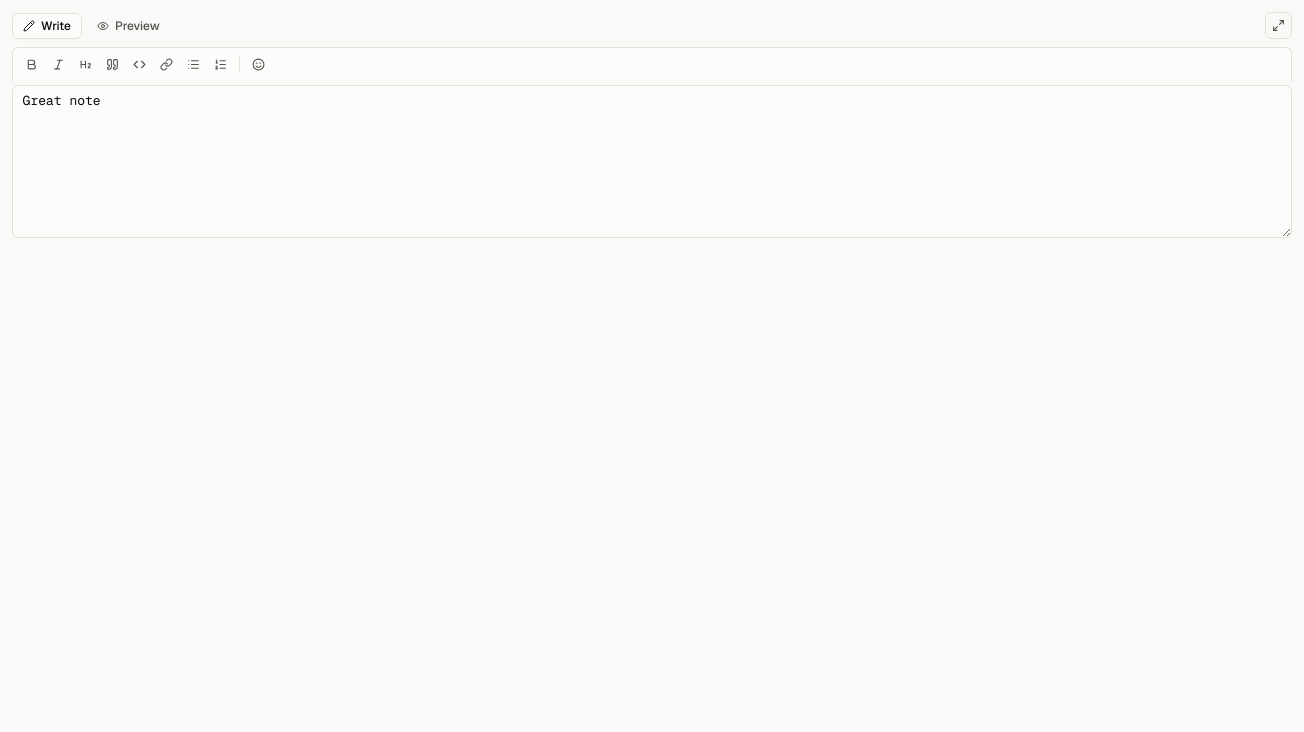
Test case: MarkdownEditor › closes the emoji menu on an outside click without inserting anything
This screenshot has width=1304, height=732.
Click the button named "Insert emoji" at (258, 64), box [246,52,271,77]
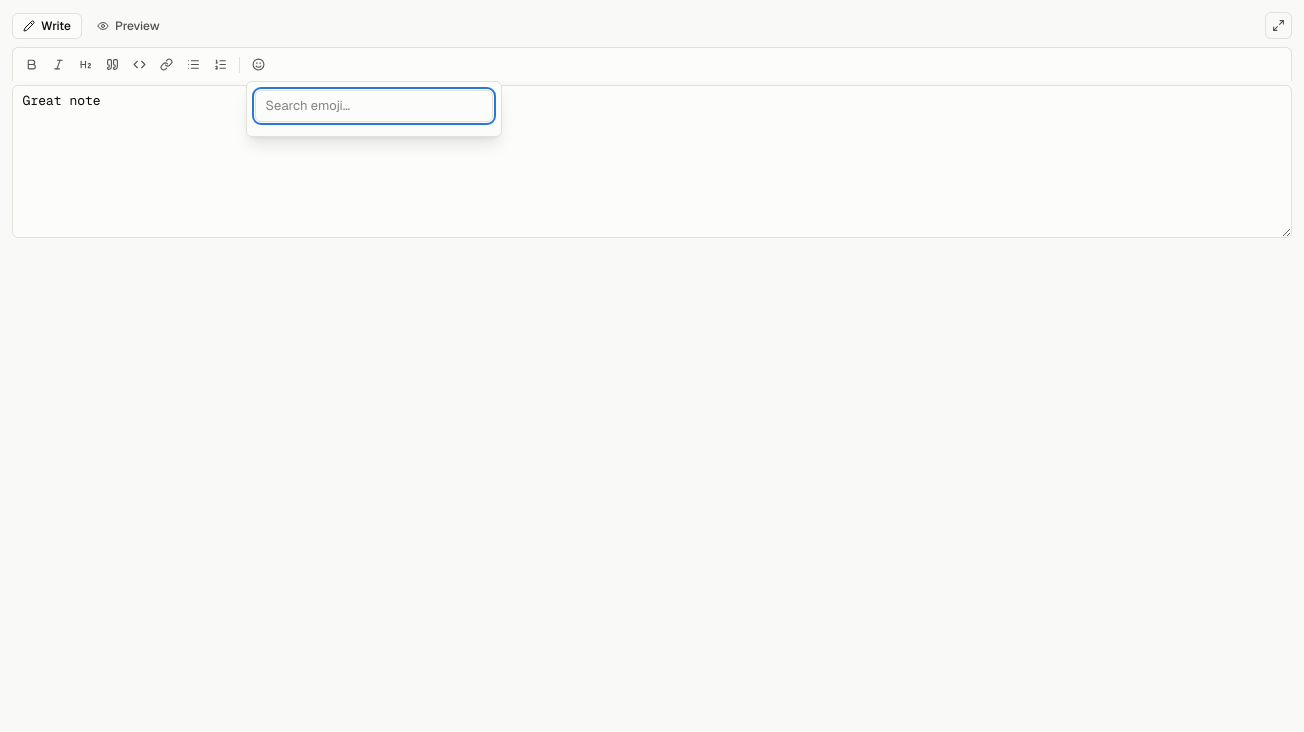
Check: the menu is shown, box [246,81,502,137]
Click the element showing "Write Preview" at (652, 372), box [12,12,1292,731]
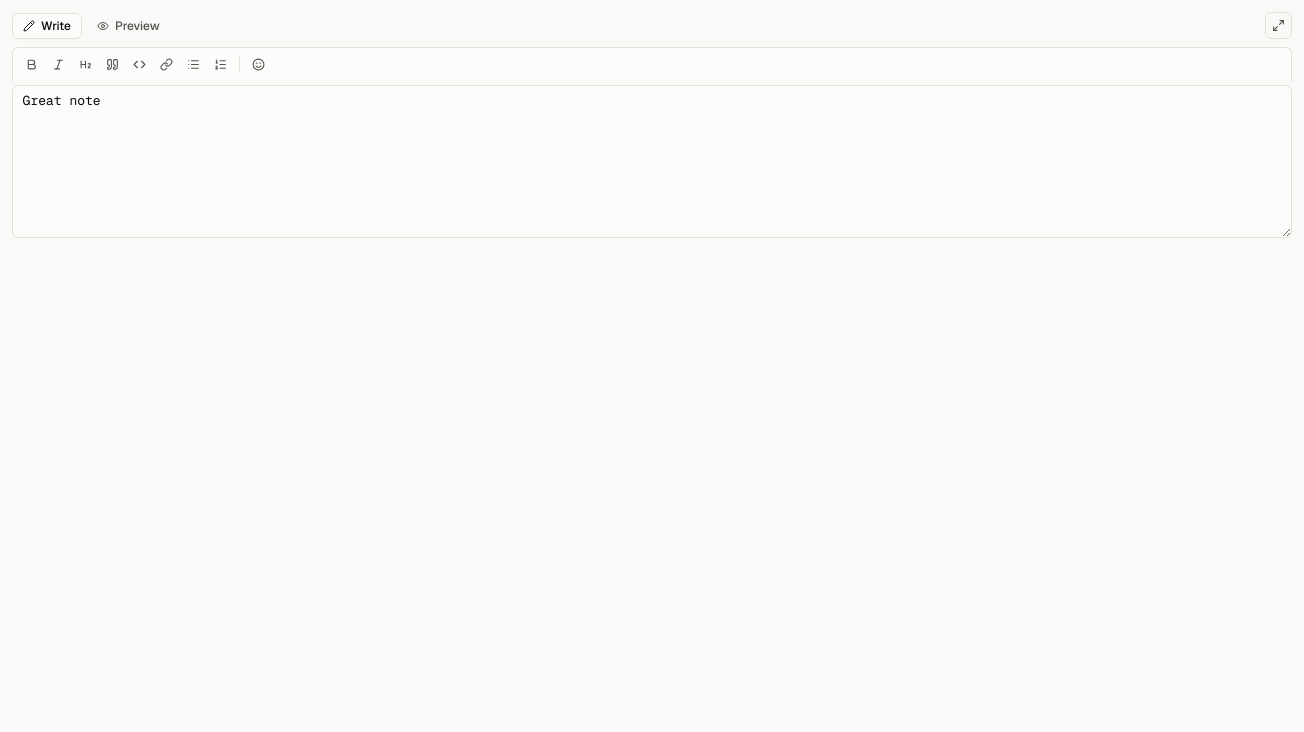
Check: the menu is gone
